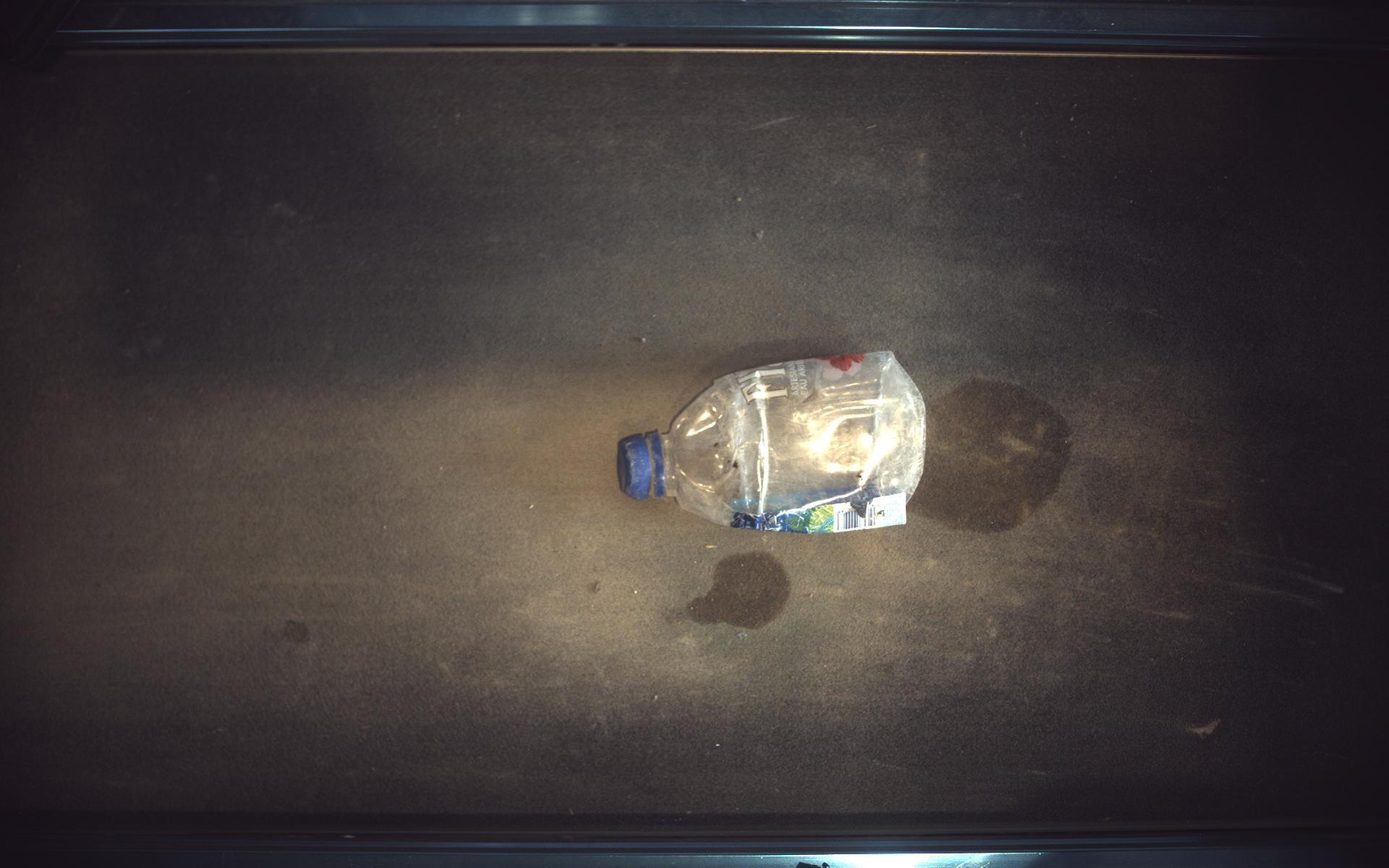general_w: (618, 352, 927, 534)
